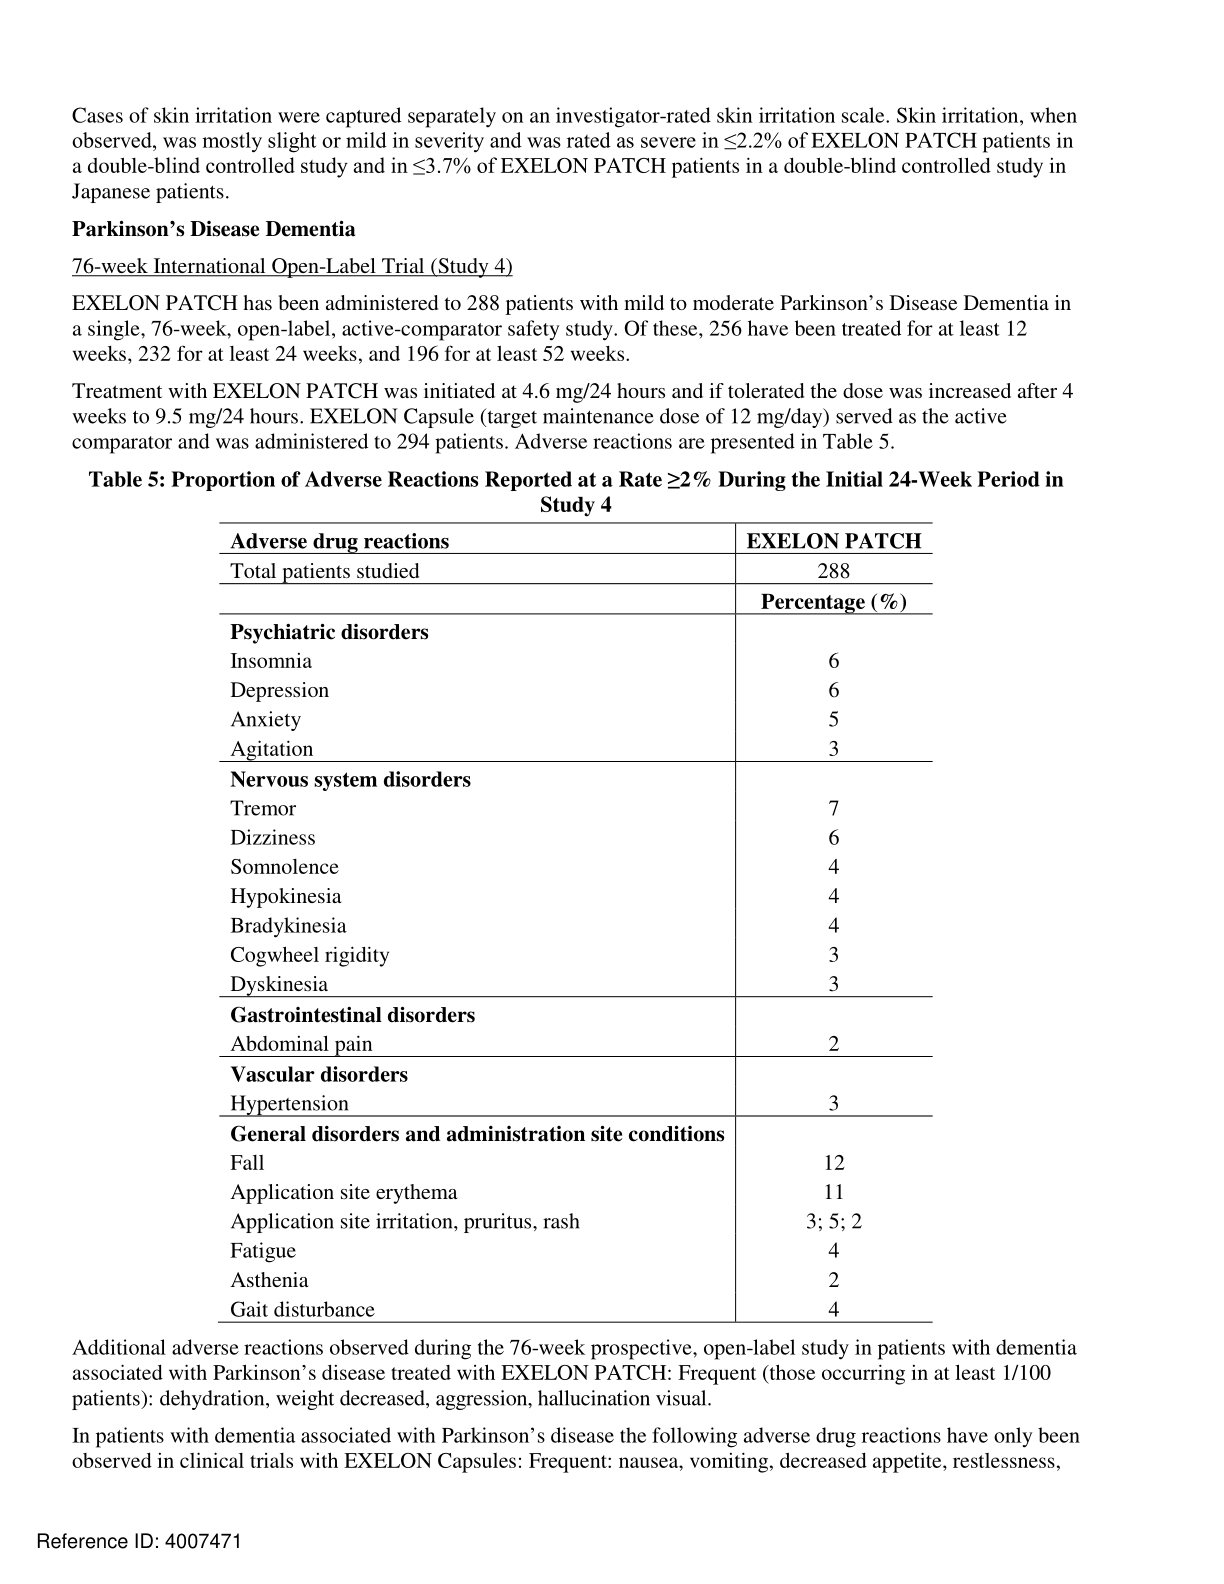partial_lined: (219, 521, 933, 1324)
